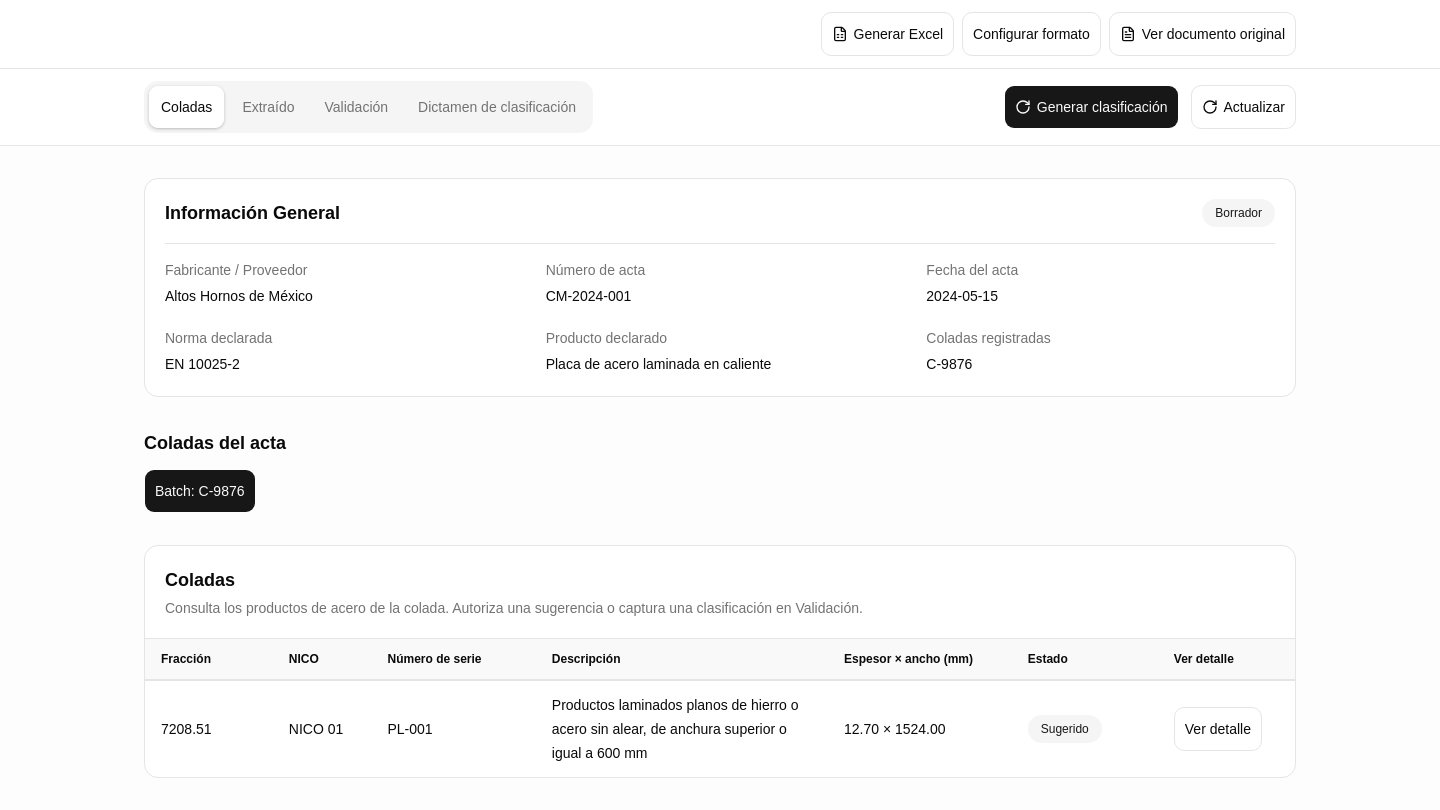
Scenario: la página sólo permite confirmar cuando todas las coladas están autorizadas: false
Step 1. Click the button "Dictamen de clasificación" → [497, 107], box [405,85,589,129]
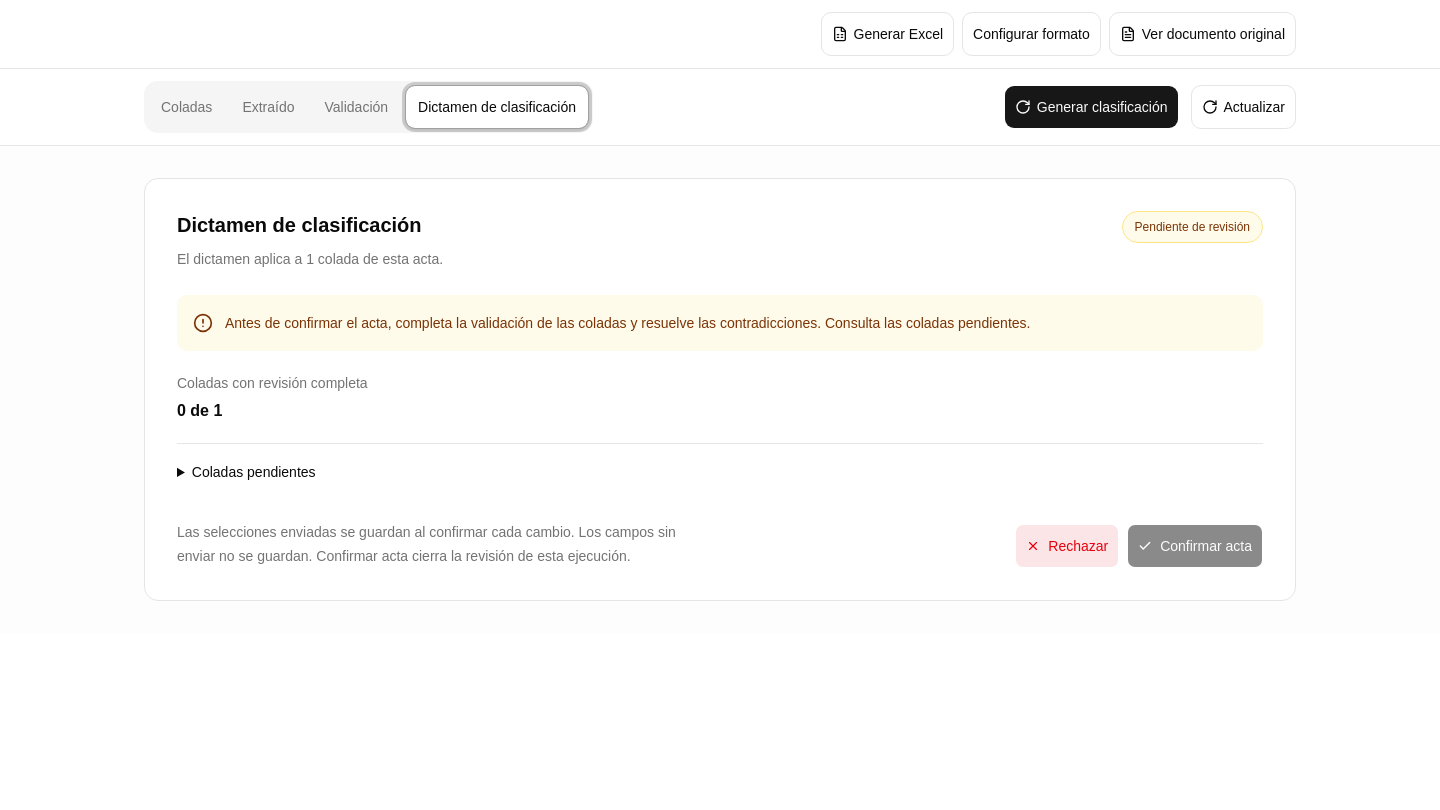
Result: the button "Confirmar acta" is disabled at [1127,524,1263,568]
